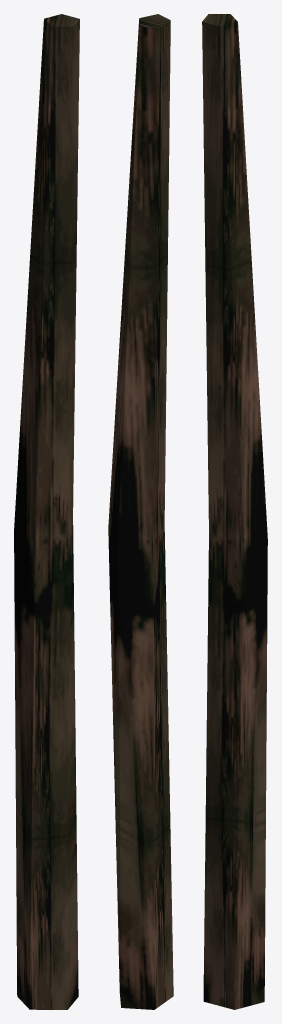
3 renders of one model, left to right at view 1: azimuth 90°, elevation 25°; view 2: azimuth 150°, elevation 25°; view 3: azimuth 270°, elevation 25°, orthographic.
Parts seen in each view (by area): view 1: BT_6; view 2: BT_6; view 3: BT_6.
Part boxes in pixels (x1,y1,x2,y2): BT_6: [14, 14, 79, 1009]; BT_6: [108, 14, 173, 1009]; BT_6: [202, 14, 267, 1009].
Bounding box in the file's own units: 0.9984 × 18.4 × 1.12.
1 material, 1 textured.
